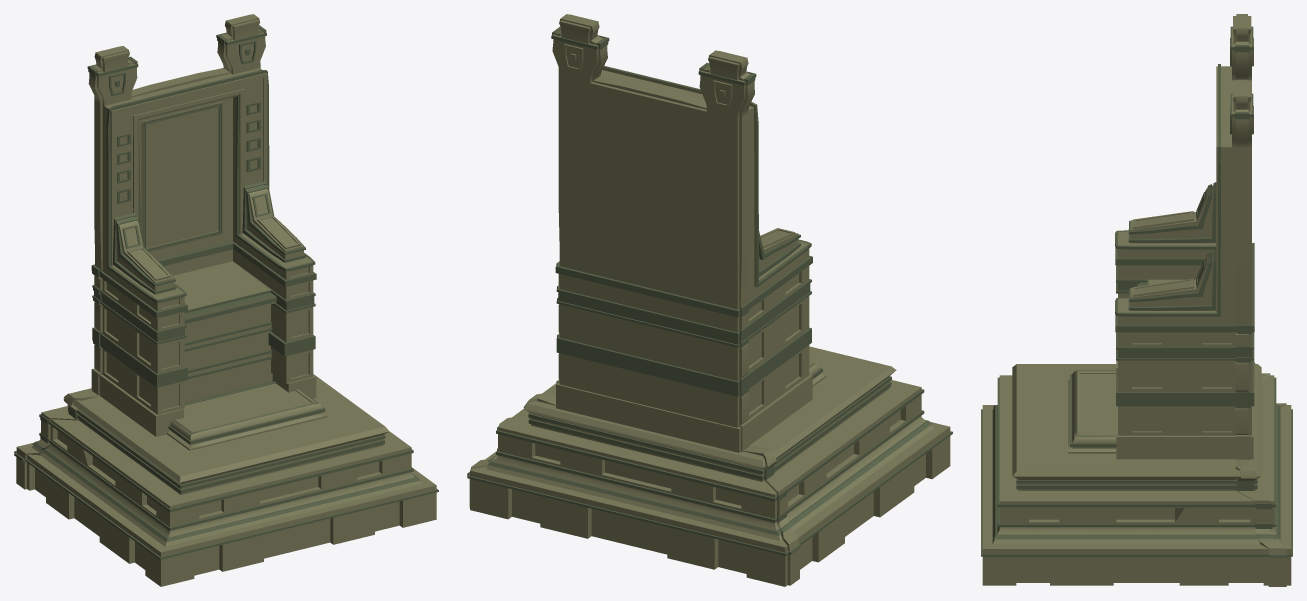
Rendered from tron.fbx.
3 views of the same model, side by side, from view 1: azimuth 30°, elevation 25°; view 2: azimuth 150°, elevation 25°; view 3: azimuth 270°, elevation 25° (orthographic). The views are drawn at different scales.
Visible parts, largest first — view 1: tron; view 2: tron; view 3: tron.
Boxes of the visible parts, x1,y1,x2,y2 form: tron: (14, 14, 438, 586); tron: (467, 14, 952, 586); tron: (981, 14, 1292, 586).
Bounding box in the file's own units: 2.15 × 3.11 × 1.92.
